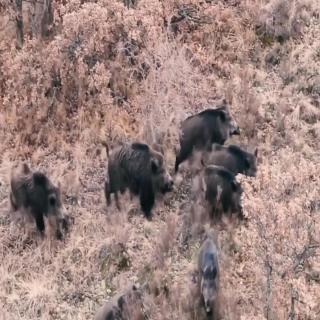Pig: (169, 97, 243, 172), (108, 136, 172, 218)
